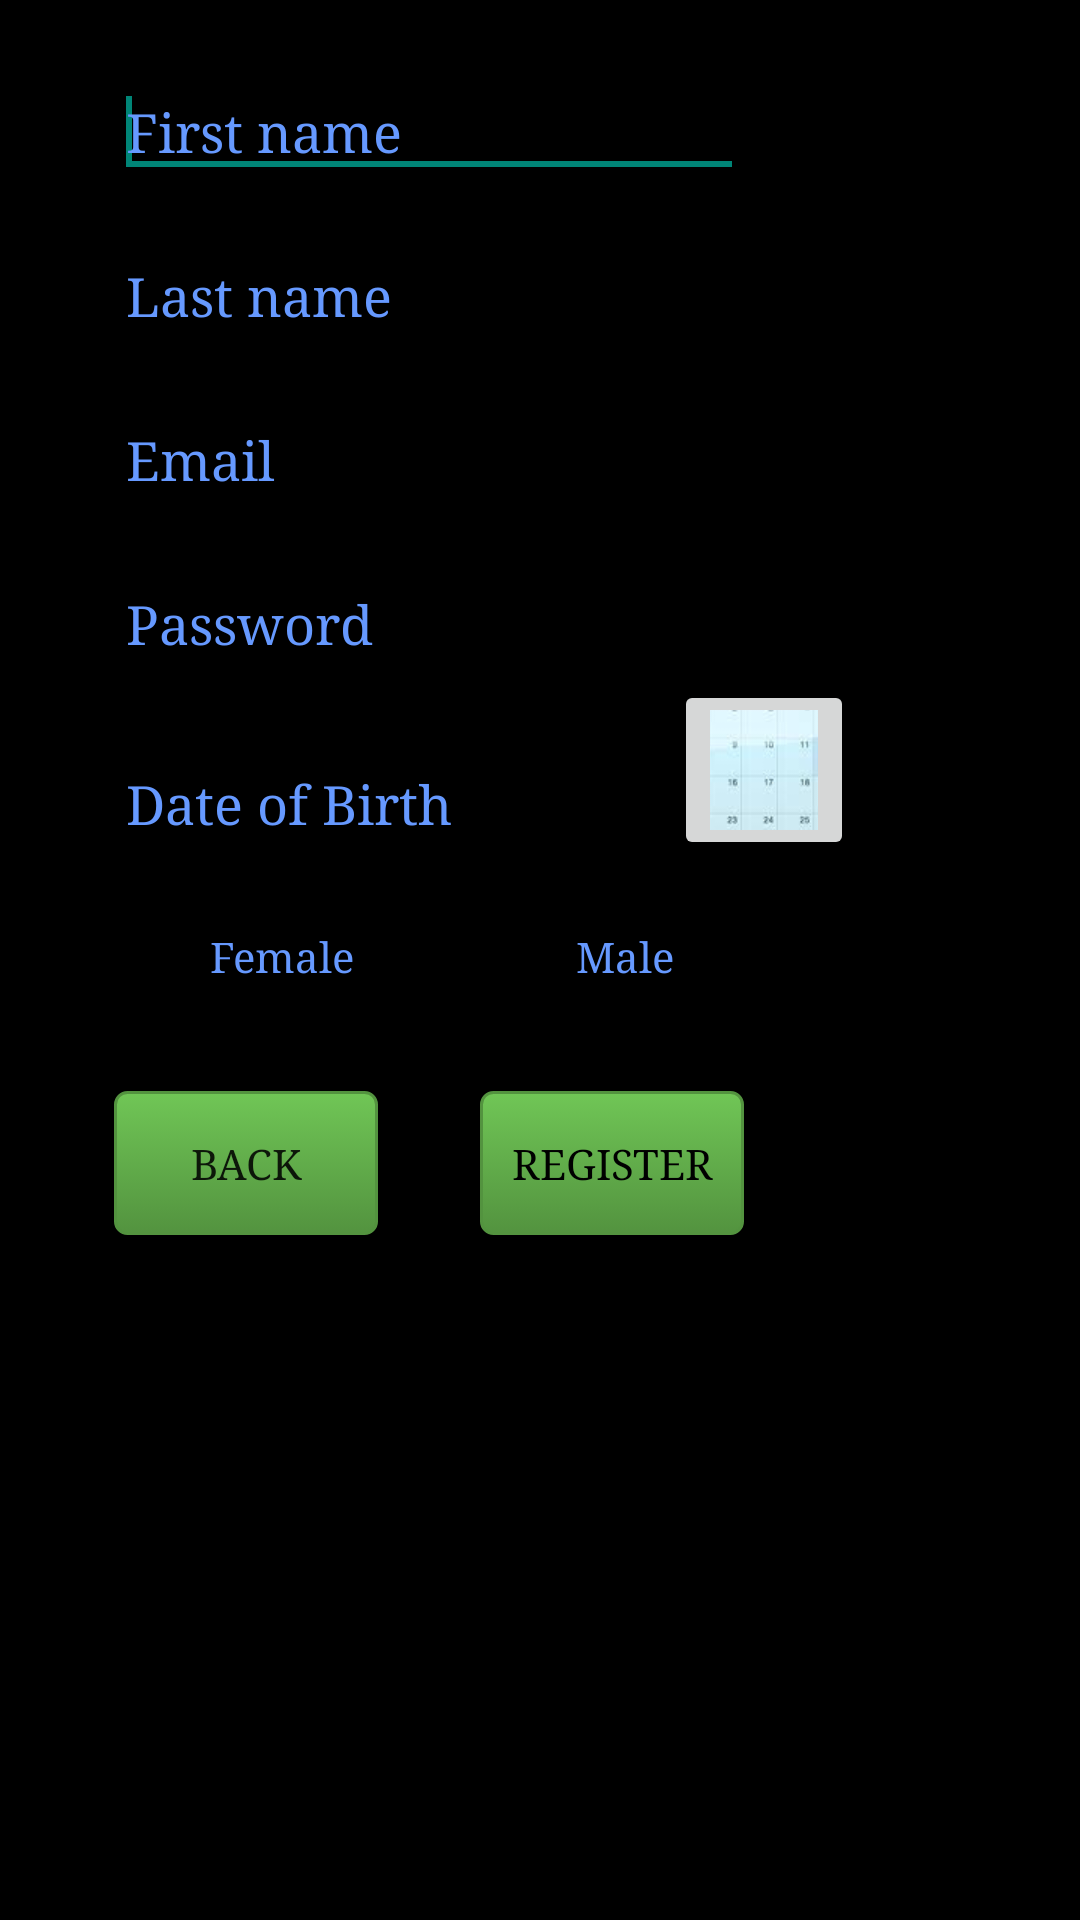

Icon bounding boxes for this 1080x1920 phone screenshot, format [x1, y1, x2, y2]:
Select DOB: [686, 698, 842, 842]
